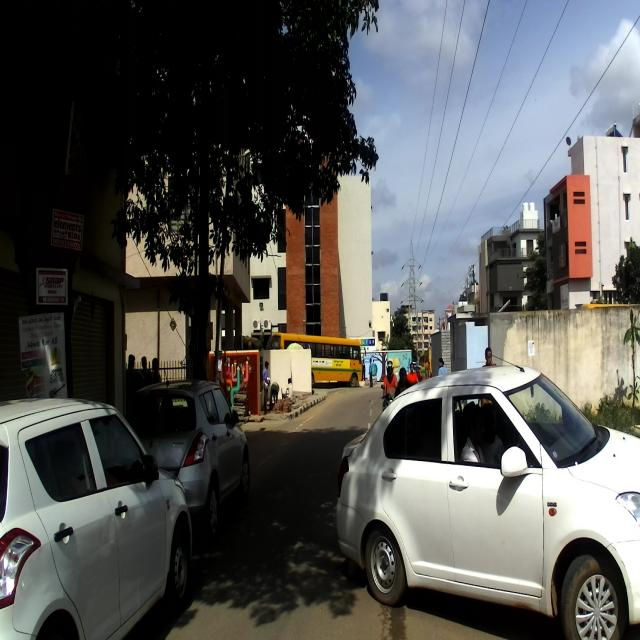car: (332, 352, 640, 637), (0, 397, 194, 639), (124, 367, 249, 545)
